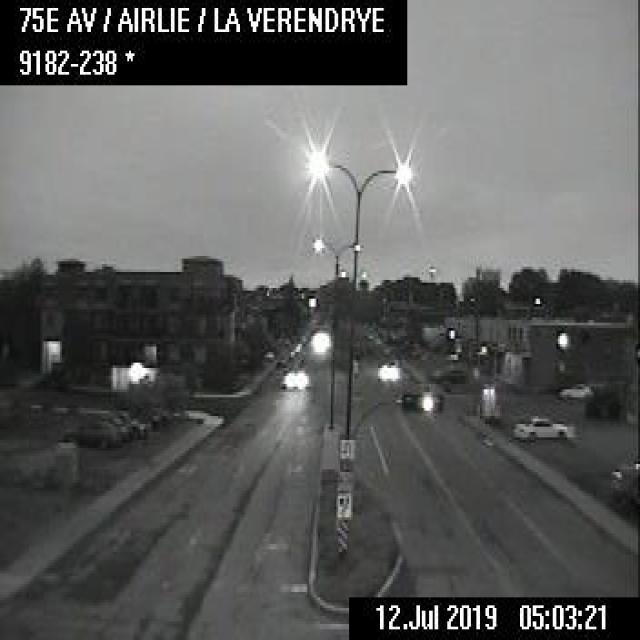vehicle: (60, 414, 118, 450), (512, 413, 570, 440), (103, 408, 145, 436), (276, 363, 308, 389), (552, 379, 594, 397), (428, 364, 466, 383), (375, 355, 400, 381), (307, 328, 329, 357)
